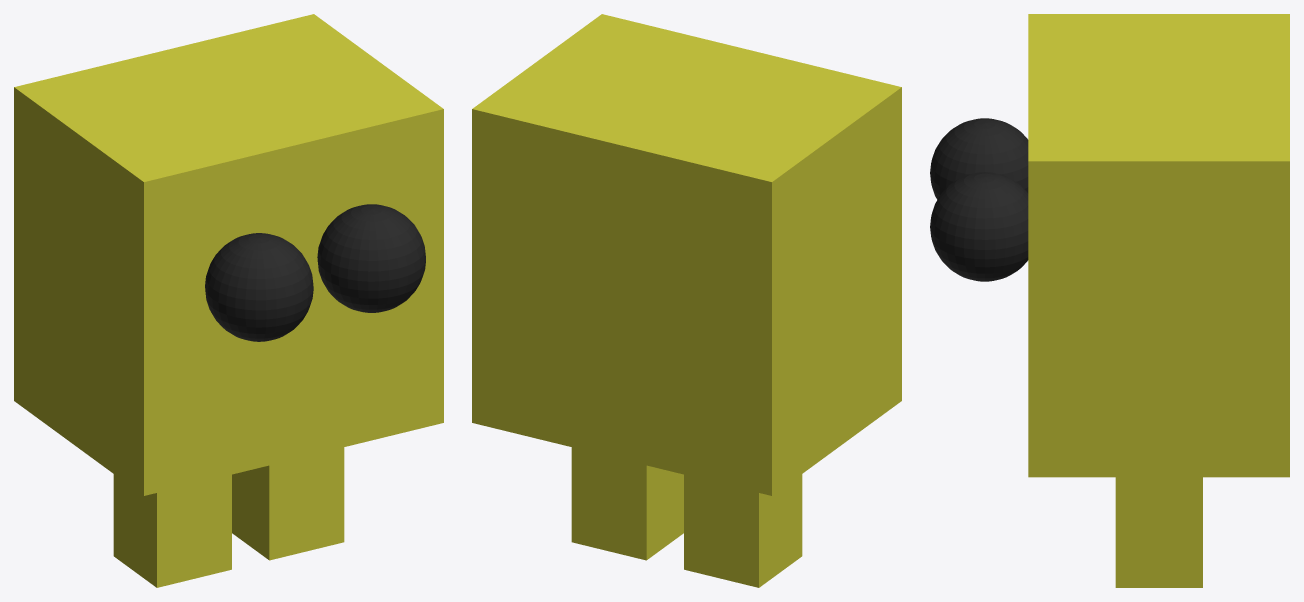
Rendered from Player.fbx.
The picture shows the model from 3 angles, left to right: view 1: azimuth 30°, elevation 25°; view 2: azimuth 150°, elevation 25°; view 3: azimuth 270°, elevation 25°; orthographic projection.
Visible parts, largest first — view 1: 立方体, 立方体.002, 立方体.001, 球.001, 球; view 2: 立方体, 立方体.002, 立方体.001; view 3: 立方体, 立方体.001, 球.001, 球.
Part boxes in pixels (bbox=[...]): 立方体: bbox=[14, 14, 443, 495]; 立方体.002: bbox=[113, 474, 231, 587]; 立方体.001: bbox=[232, 447, 344, 560]; 球.001: bbox=[317, 204, 425, 312]; 球: bbox=[205, 233, 313, 341]; 立方体: bbox=[472, 14, 901, 495]; 立方体.002: bbox=[684, 474, 802, 587]; 立方体.001: bbox=[571, 447, 683, 560]; 立方体: bbox=[1028, 14, 1289, 477]; 立方体.001: bbox=[1115, 477, 1202, 587]; 球.001: bbox=[930, 172, 1028, 281]; 球: bbox=[930, 118, 1028, 199].
Bounding box in the file's own units: 80 × 115 × 82.59.
